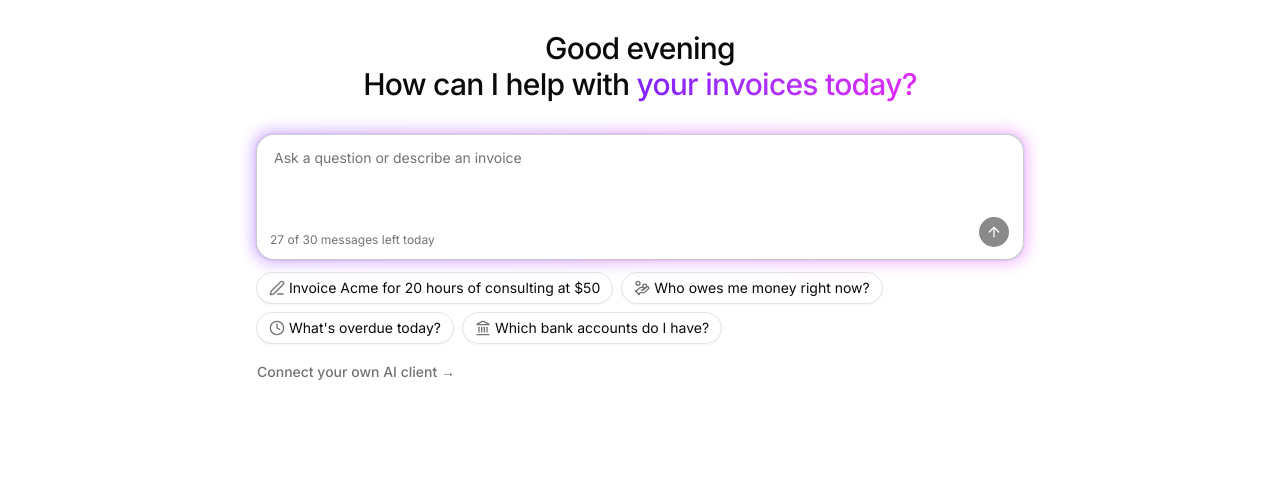
Test: ChatIsland - a failed load of a new form (T87; AC-55) › when the load rejects: the dock shows the error with Try again (no endless skeleton), the composer stays enabled, Try again loads the form
Type "invoice Acme GmbH" into the text box named "Message" at {"x": 640, "y": 176}, box [258,136,1022,216]
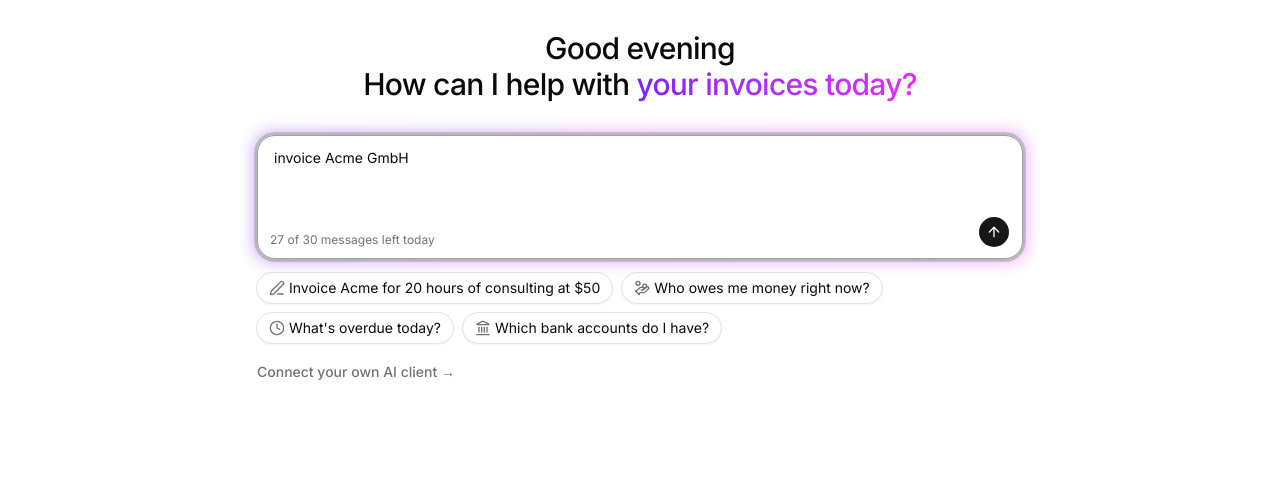
Click the button named "Send" at {"x": 994, "y": 232}, box [978,216,1010,248]
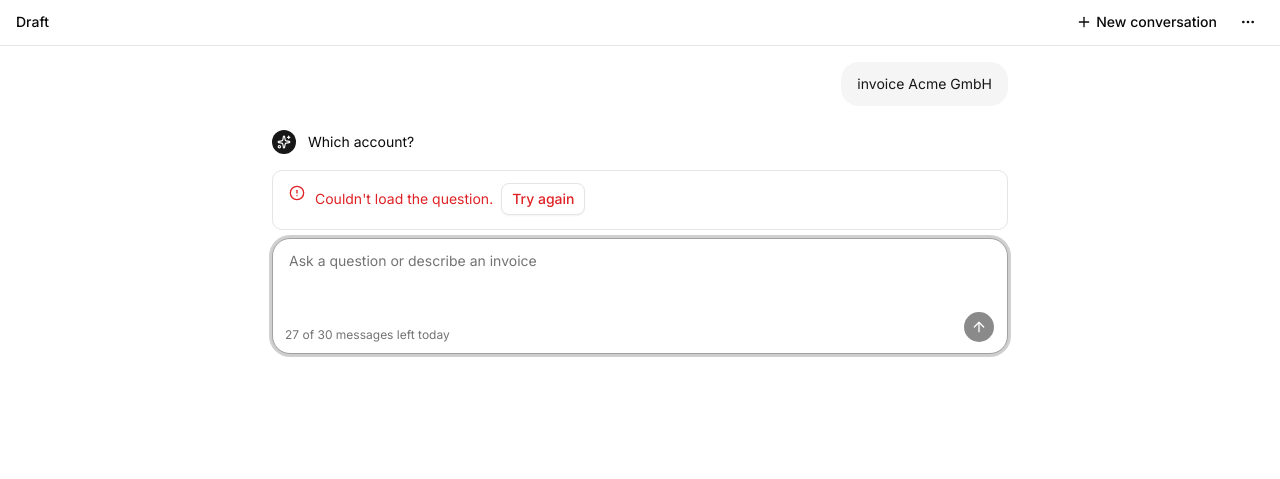
Expected: the text box named "Message" is enabled, [273,239,1007,311]
Expected: the text "Which account?" is shown, [308,133,414,150]
Expected: the message shows "Couldn't load the question.", [315,190,493,207]
Click the button "Try again" at {"x": 543, "y": 199}, box [501,183,586,215]
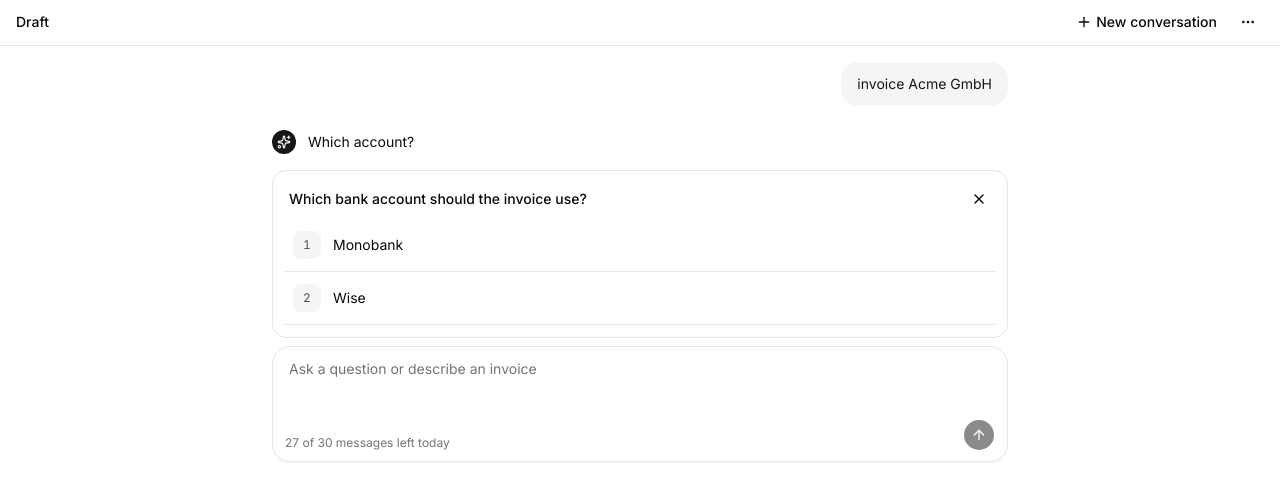
Expected: the text box named "Message" is enabled, [273,347,1007,419]
Expected: the radio button labelled "2 Wise" is shown, [285,274,995,322]
Expected: the message "Couldn't load the question. Try again" is gone
